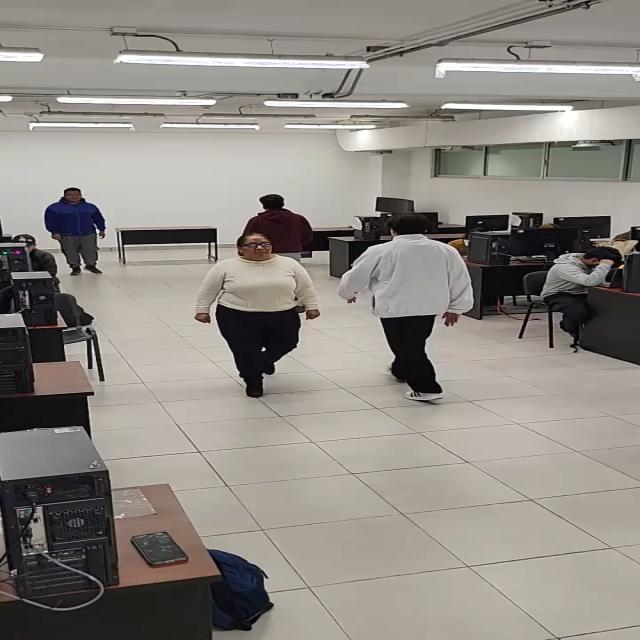Persona: (340, 215, 460, 403), (222, 234, 306, 400), (44, 189, 110, 276), (249, 195, 322, 258)
